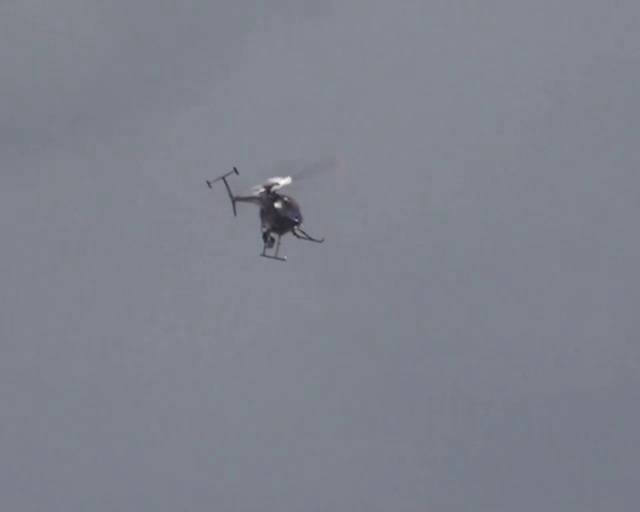HELICOPTER: (204, 162, 329, 262)
